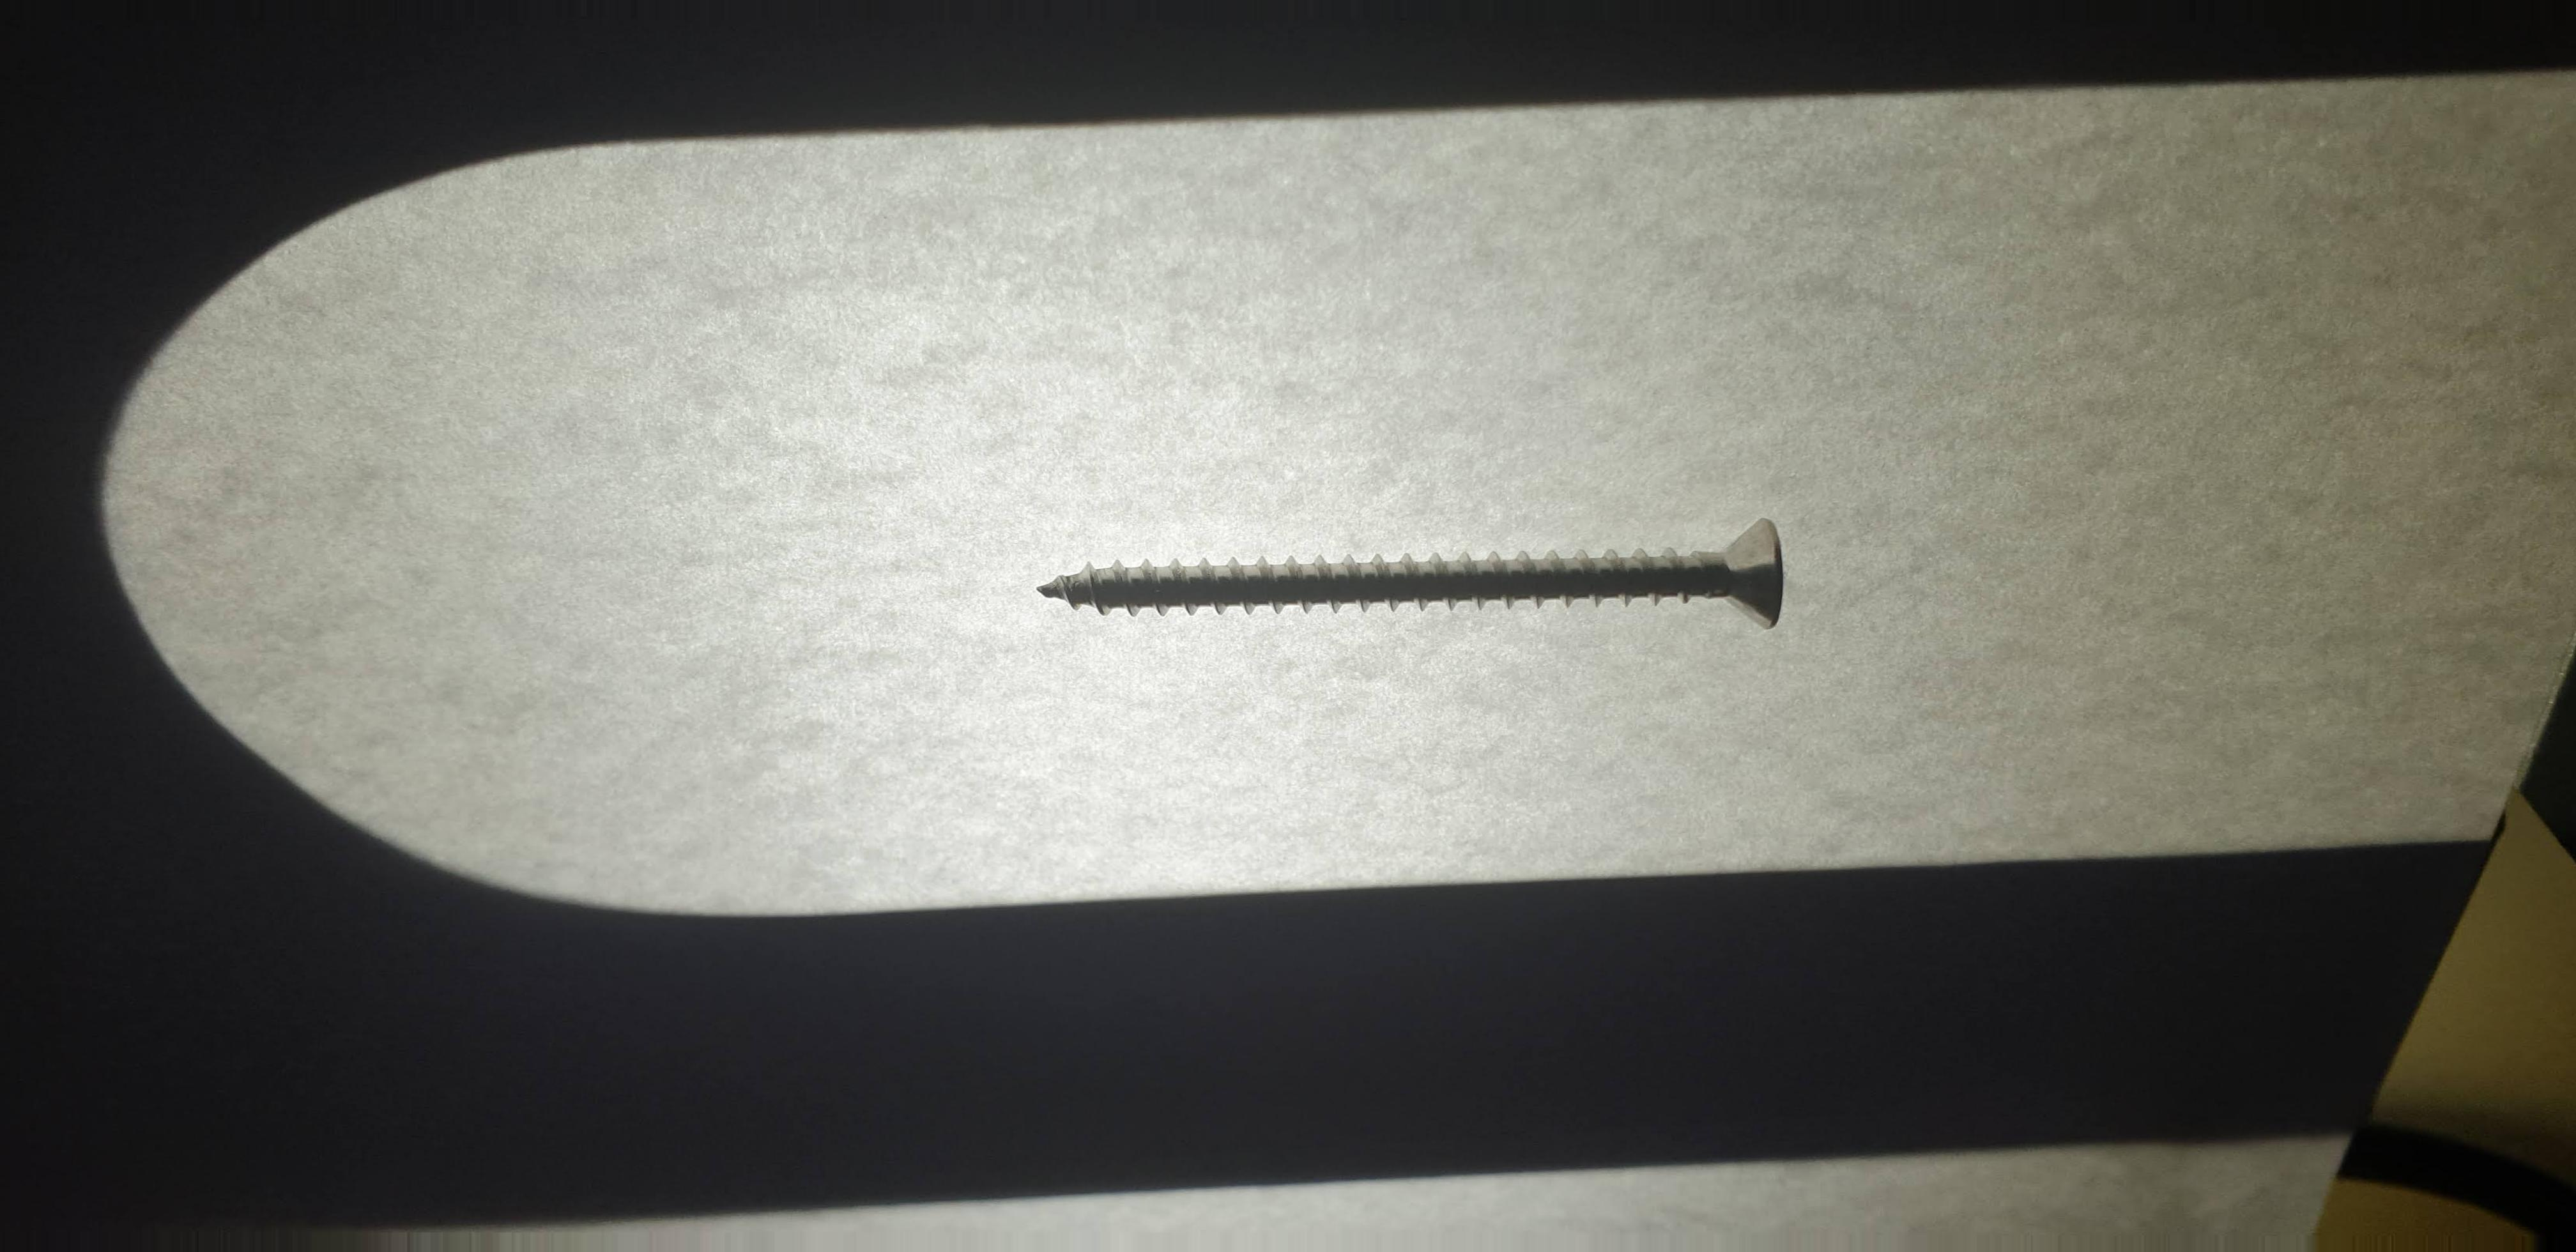S001: (1022, 491, 1819, 669)
